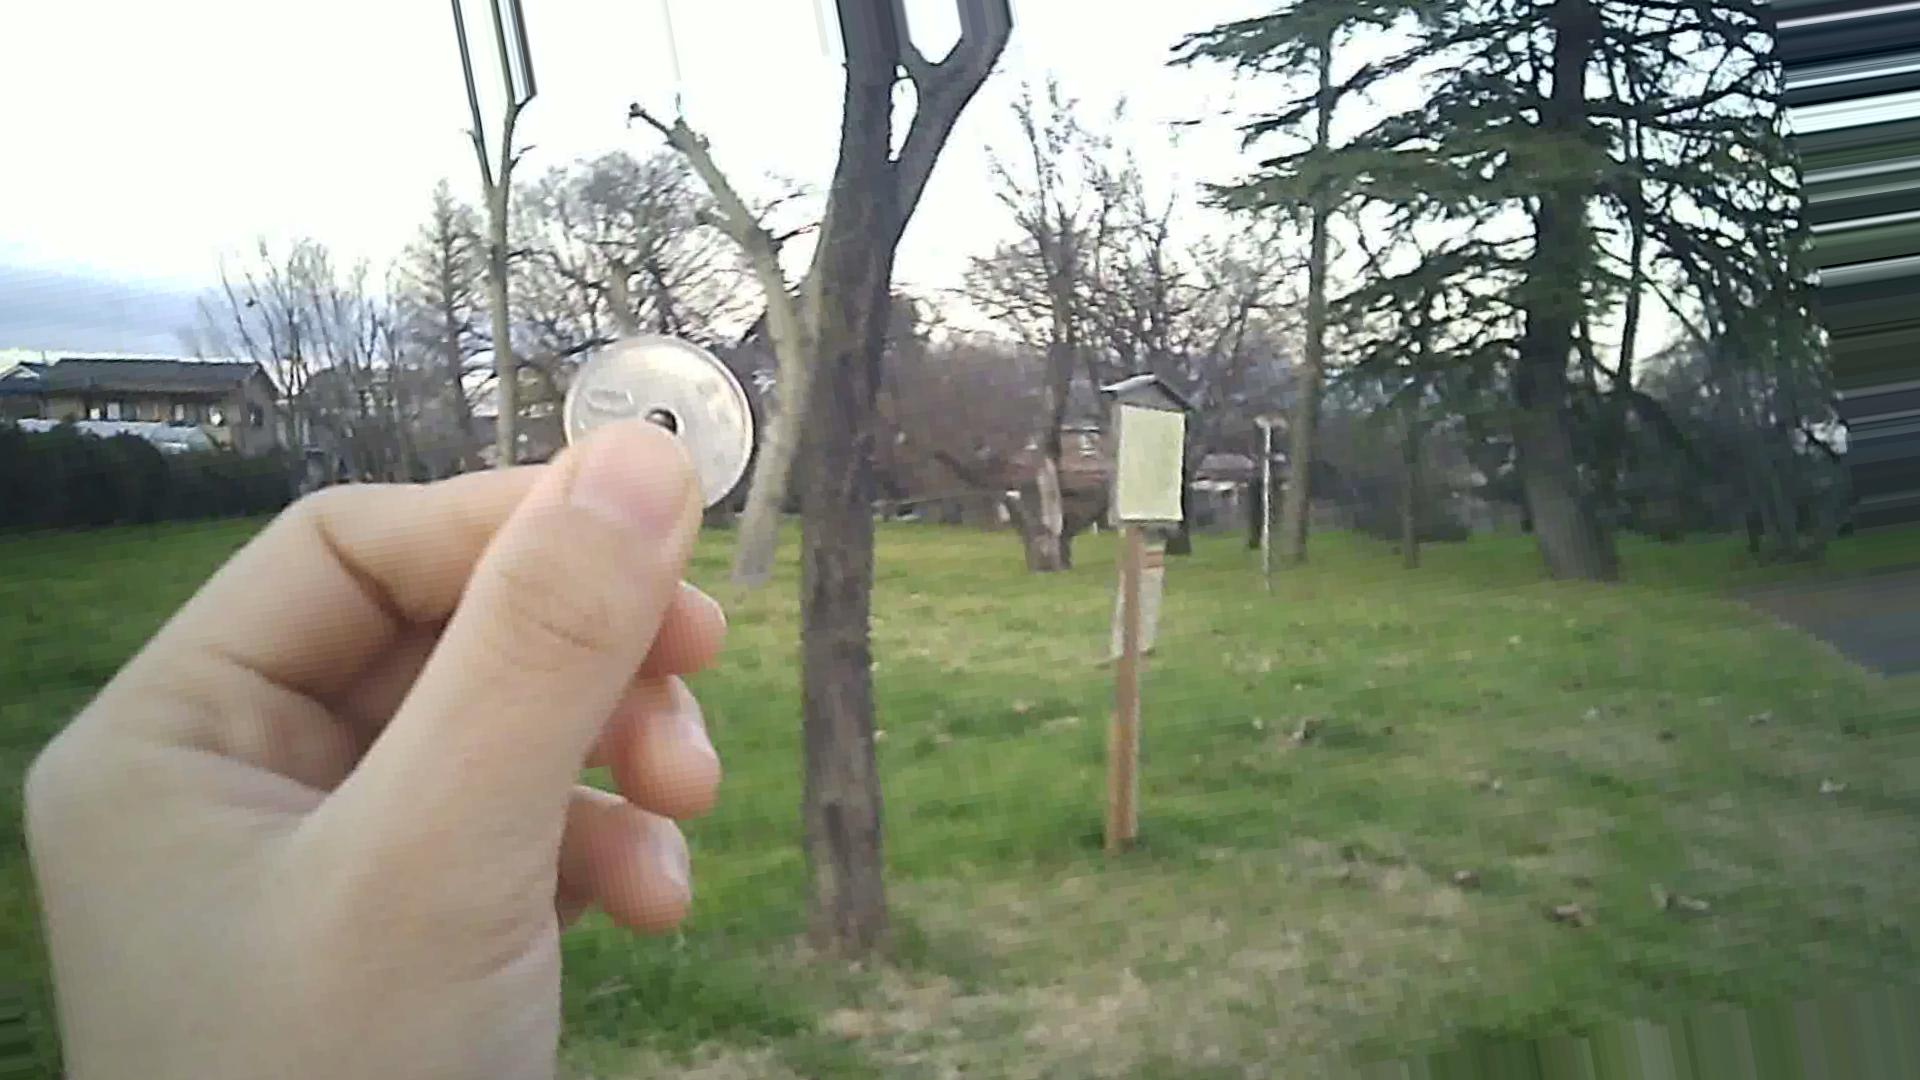50 Yen: (541, 334, 745, 512)
